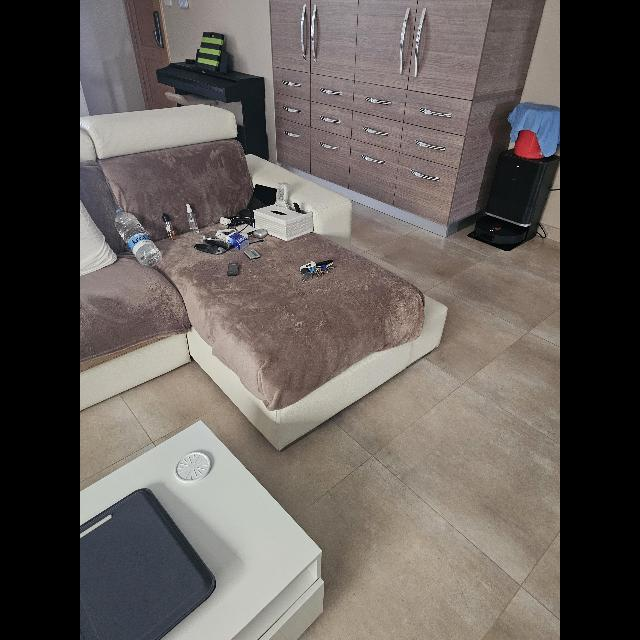Keys: (300, 260, 334, 278)
